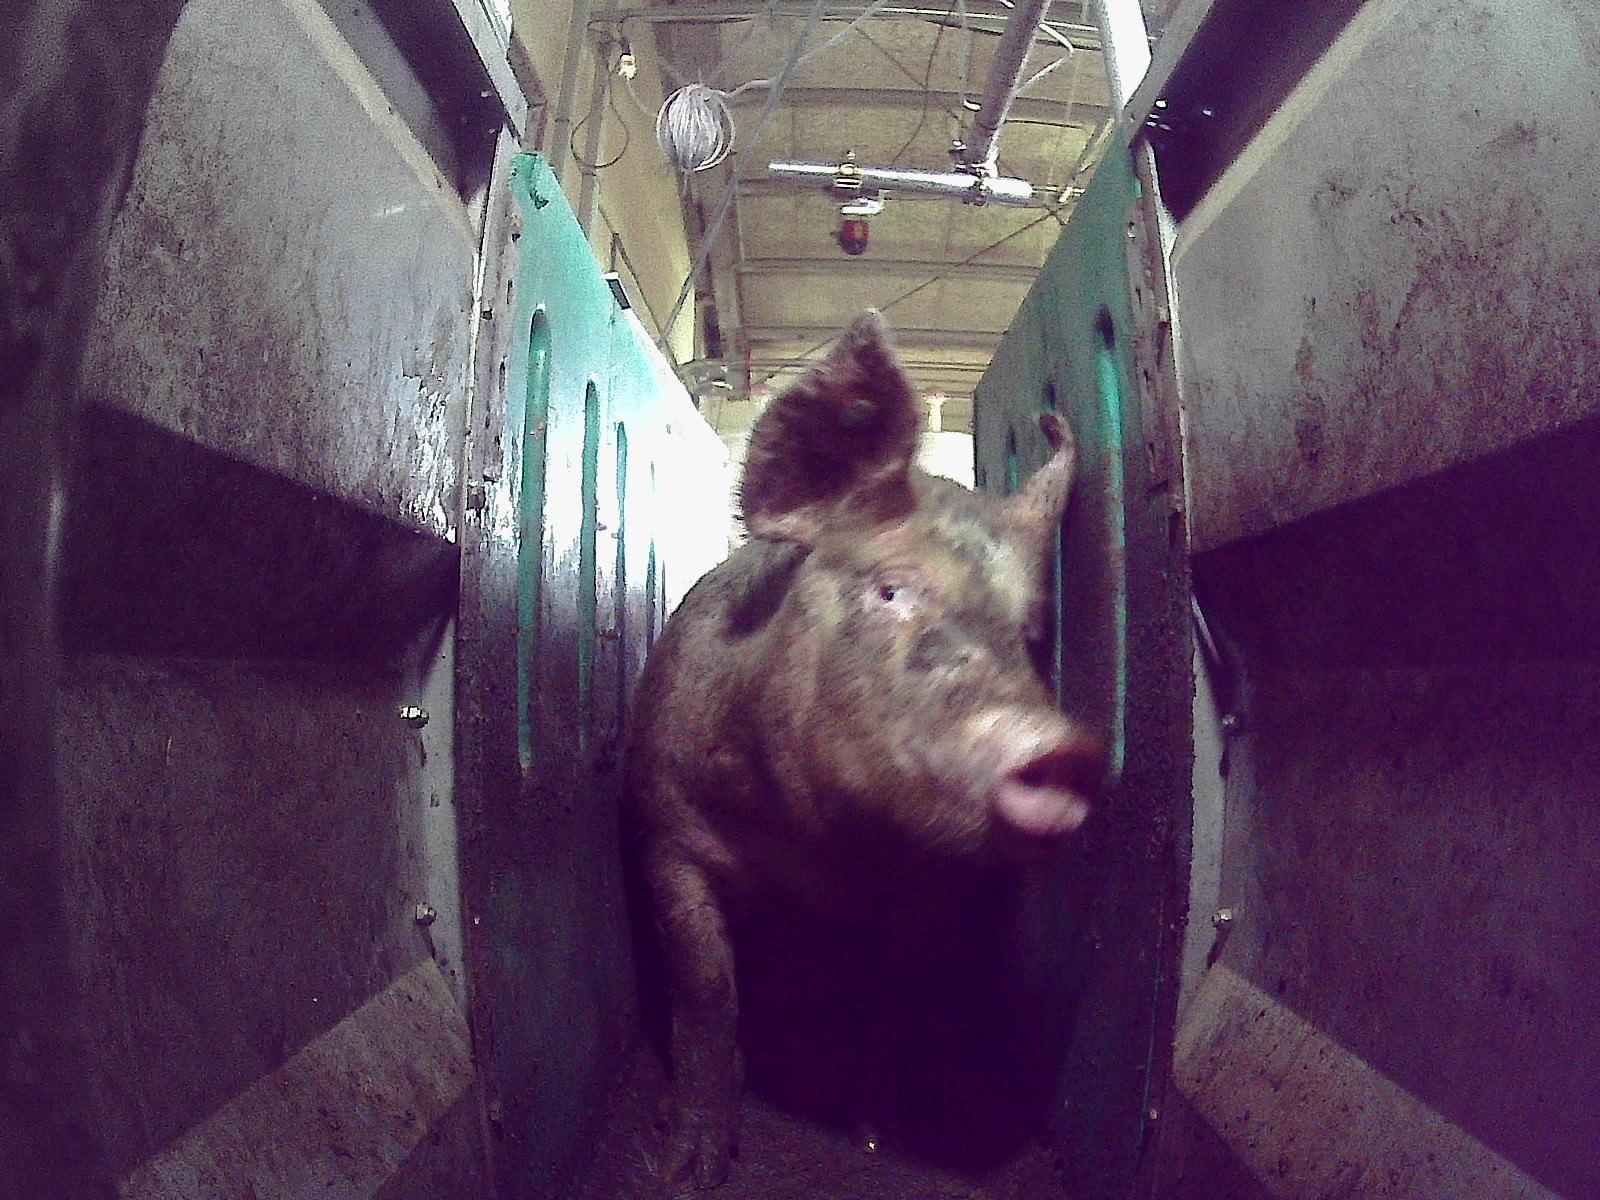Face: (743, 464, 1102, 872)
